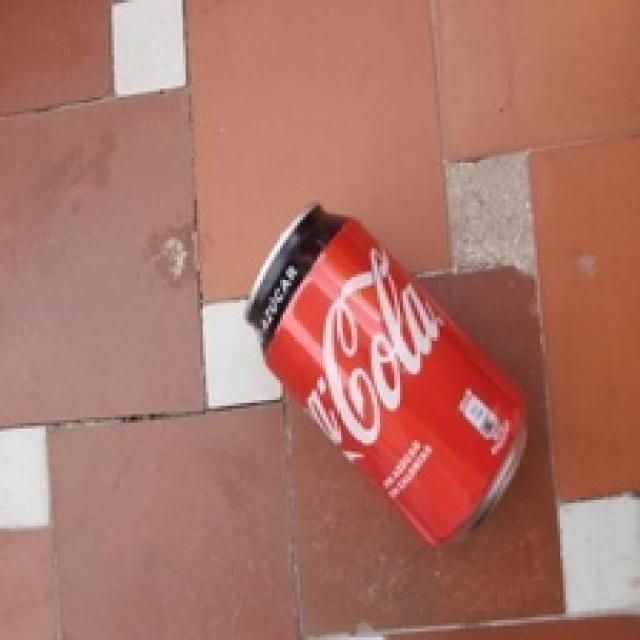recyclable: (245, 200, 532, 545)
